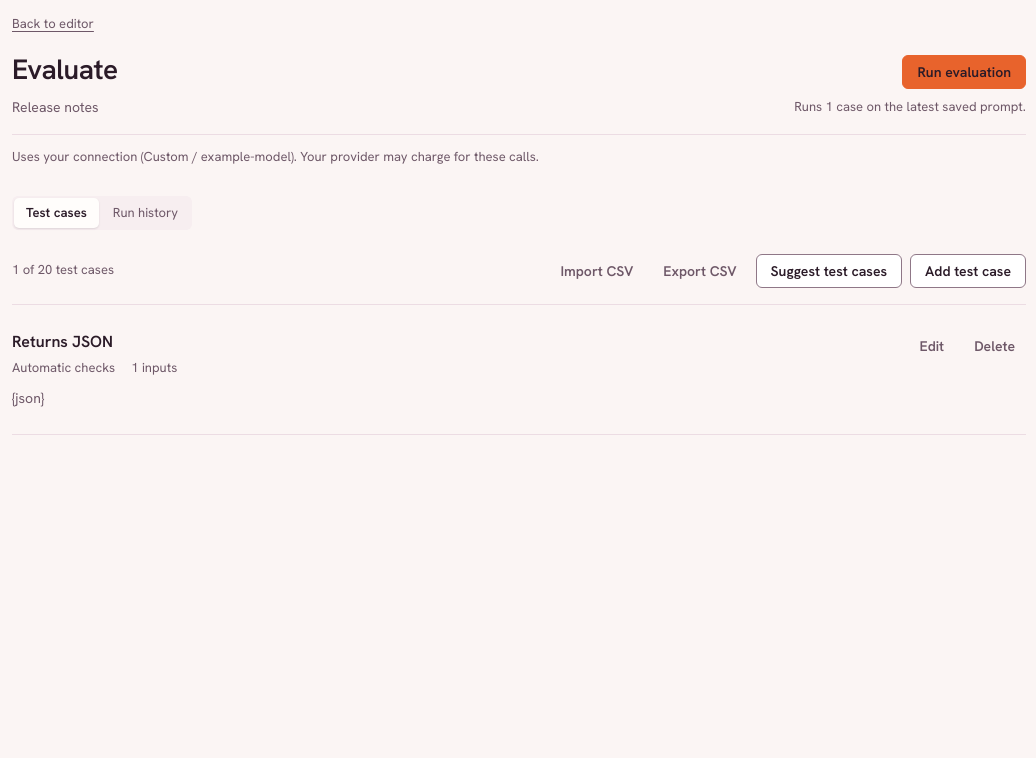
Test: labels historical results with tested and current versions and runs current without discarding history
The width and height of the screenshot is (1036, 758).
Expected: the heading "Evaluate" is shown, [12,47,118,92]
Step 1. Click the radio button labelled "Run history" → coordinates (146, 213), box [101,198,190,228]
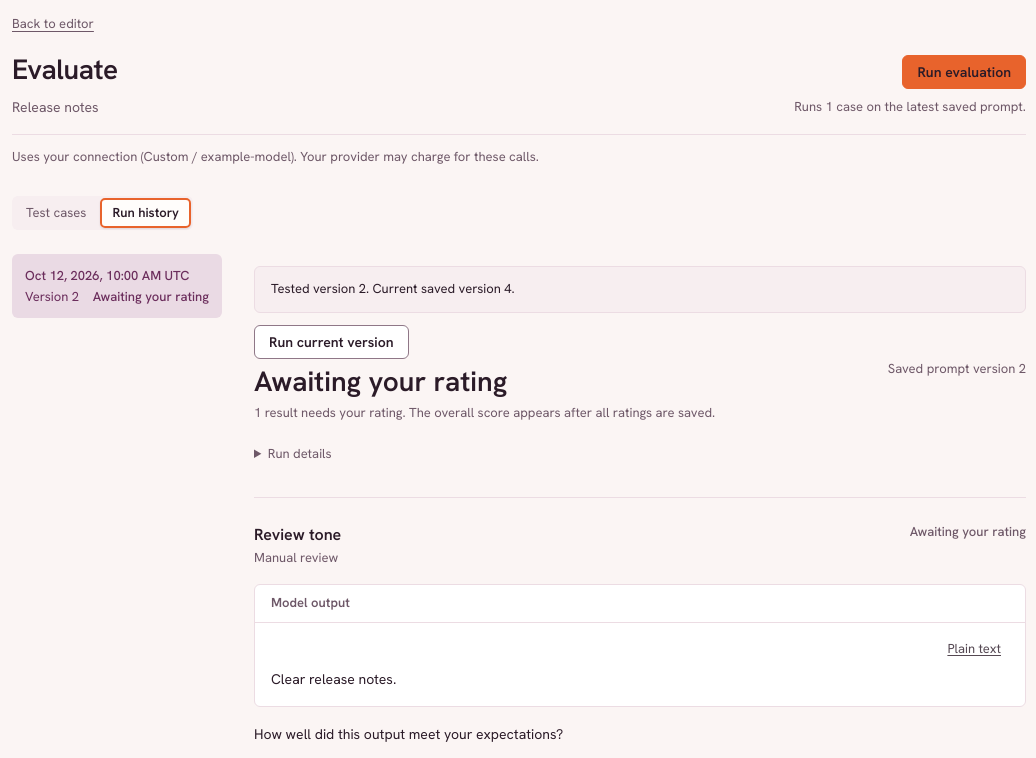
Result: the text "Tested version 2. Current saved version 4." is shown at [254,266,1026,313]
Step 2. Click the button "Run current version" → coordinates (331, 342), box [254,325,408,359]
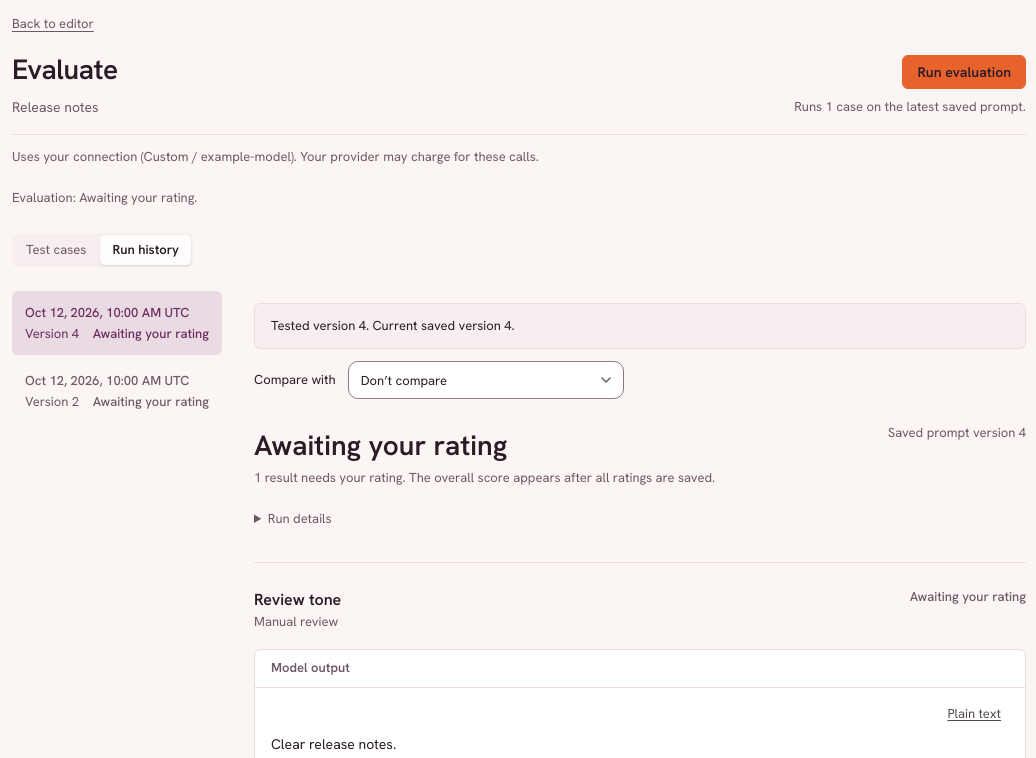
Result: the text "Tested version 4. Current saved version 4." is shown at [254,303,1026,349]
